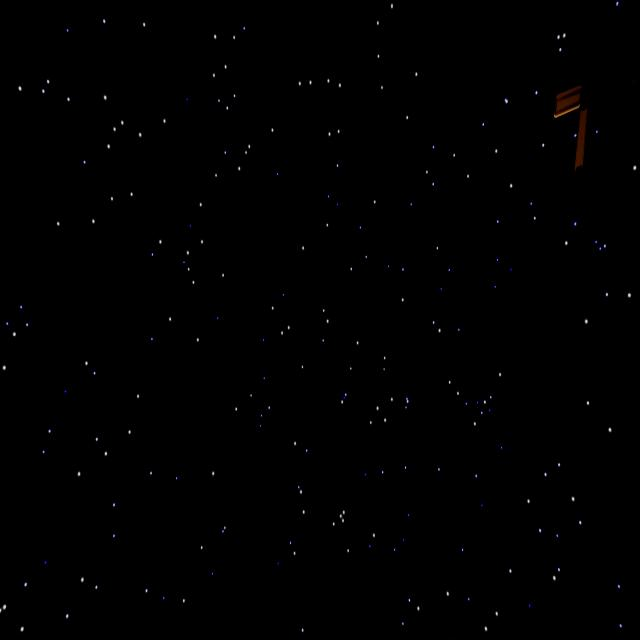satellite: (544, 65, 634, 182)
